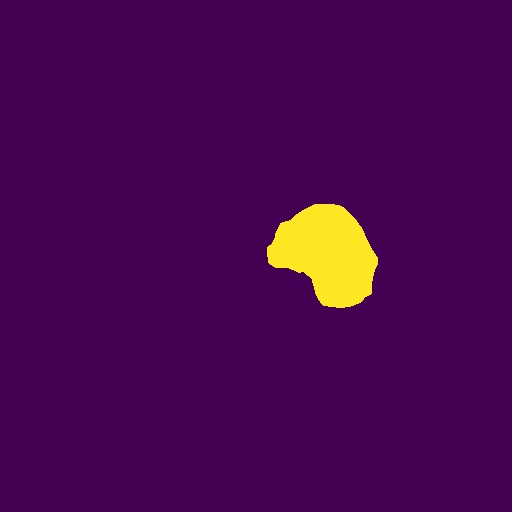Menigiomia_tumour: (267, 204, 378, 308)
